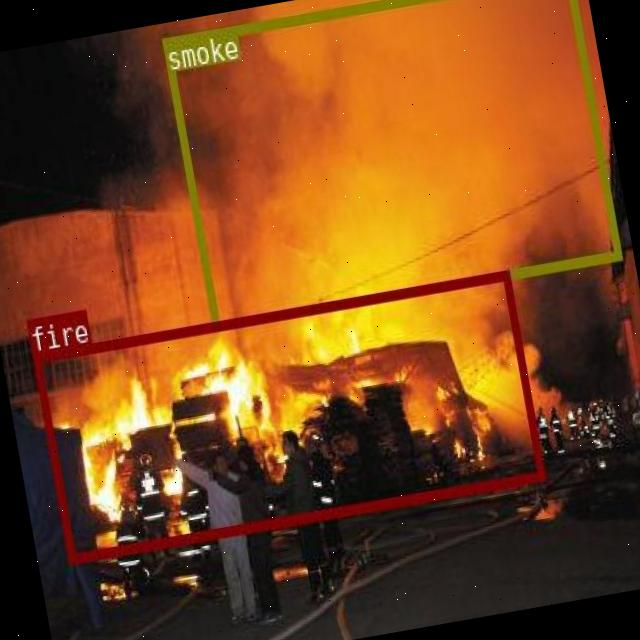fire: (31, 268, 544, 562)
smoke: (160, 0, 620, 330)
